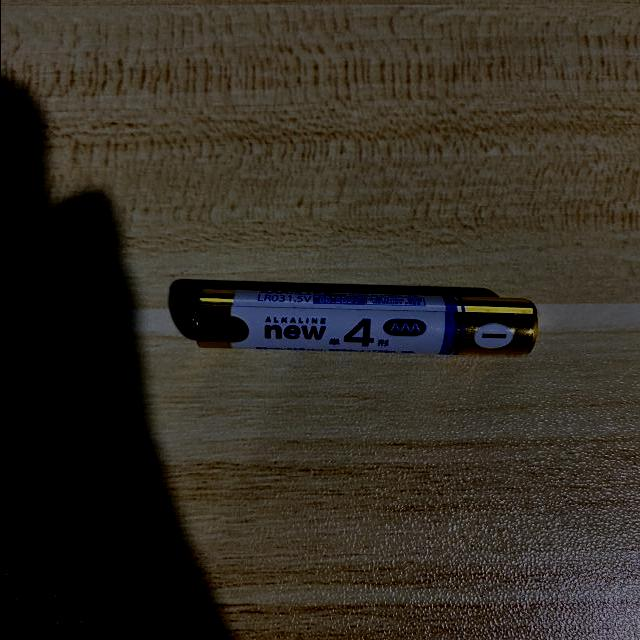AAA: (188, 292, 536, 350)
